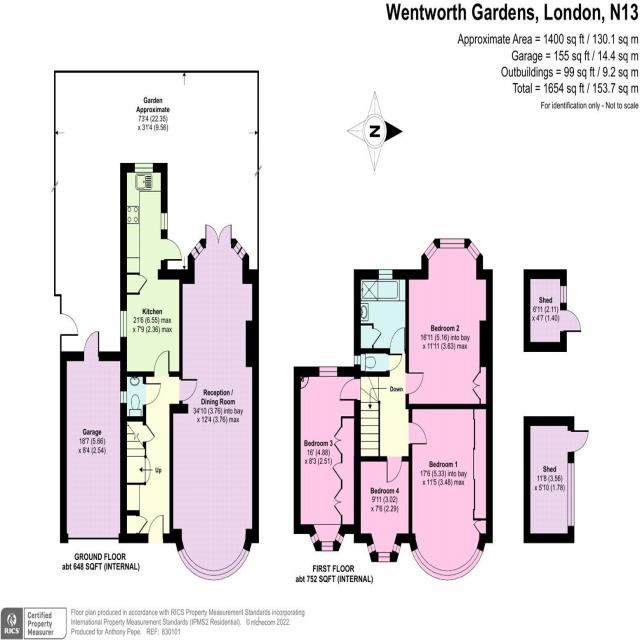DOOR: (353, 456, 413, 562), (160, 238, 183, 261), (339, 377, 361, 401), (568, 429, 589, 453), (83, 331, 99, 361), (386, 455, 403, 483), (148, 514, 164, 543), (179, 378, 198, 402), (143, 383, 162, 406), (153, 350, 169, 377), (409, 421, 427, 445), (406, 372, 424, 395)
DOUBLE DOOR: (204, 222, 232, 248)
ROOM: (169, 218, 258, 576), (405, 238, 493, 410), (408, 404, 493, 581), (120, 162, 183, 377)
WINDOW: (178, 547, 250, 580), (411, 547, 483, 580), (567, 461, 575, 528), (466, 239, 480, 261), (189, 240, 204, 260), (232, 239, 246, 260), (439, 238, 465, 249), (423, 241, 438, 260), (319, 366, 338, 378), (120, 309, 127, 338), (133, 163, 153, 173), (378, 268, 393, 280), (377, 551, 391, 562), (160, 211, 168, 230), (366, 541, 377, 554), (310, 531, 320, 545), (320, 541, 334, 551), (334, 532, 344, 546), (392, 542, 401, 556), (120, 390, 127, 405)
